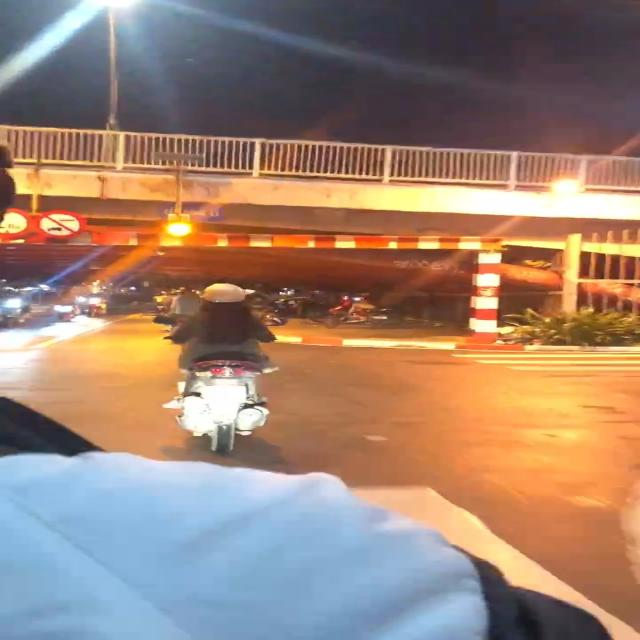Bien bao cam xe oto khach va xe oto tai: (37, 208, 90, 240)
